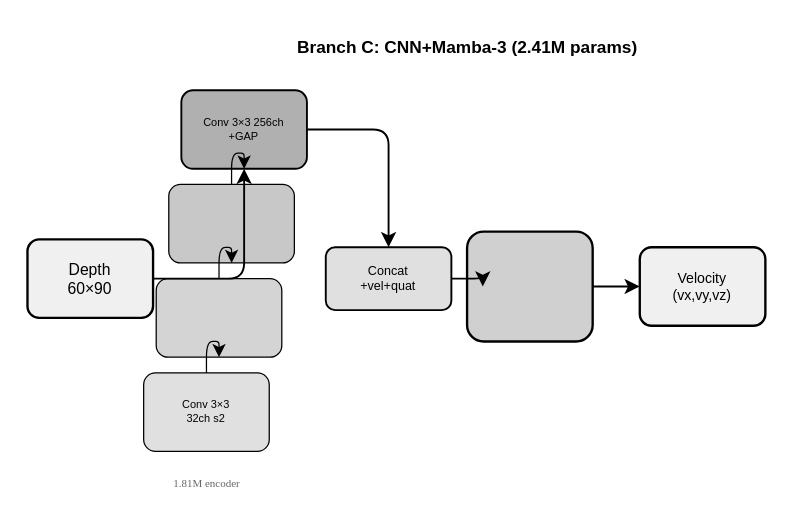
Some shapes in this 809 by 520 pixel diagram are drawn without their labels. Here are the shapes that lost their labels. From the top down, the centre of each, then its label:
At [230,223]: "Conv 3×3 128ch s2".
At [529,286]: "Mamba-3 d=32".
At [218,317]: "Conv 3×3 64ch s2".
